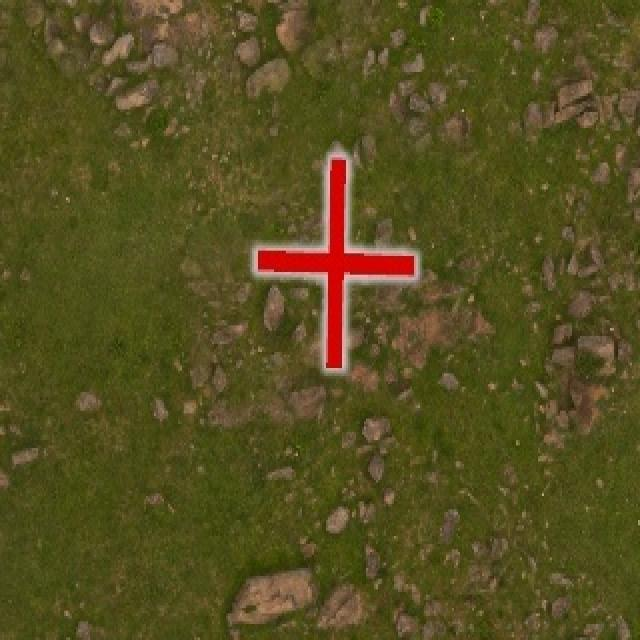x_marker: (255, 156, 415, 367)
